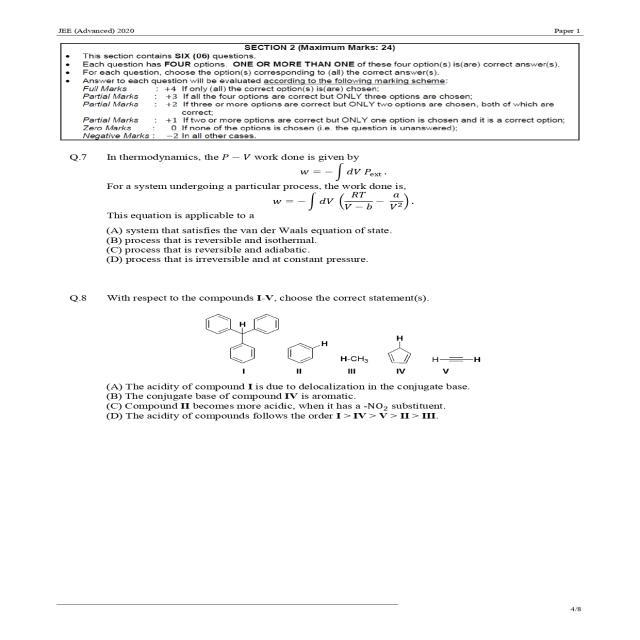Answer_Block: (28, 380, 614, 434), (28, 224, 614, 275)
Instruction: (28, 40, 614, 142)
Question_Answer_Block: (28, 286, 614, 434), (28, 149, 614, 275)
Question_Block: (28, 287, 614, 381)
Question_Paper_Area: (28, 39, 614, 588)
